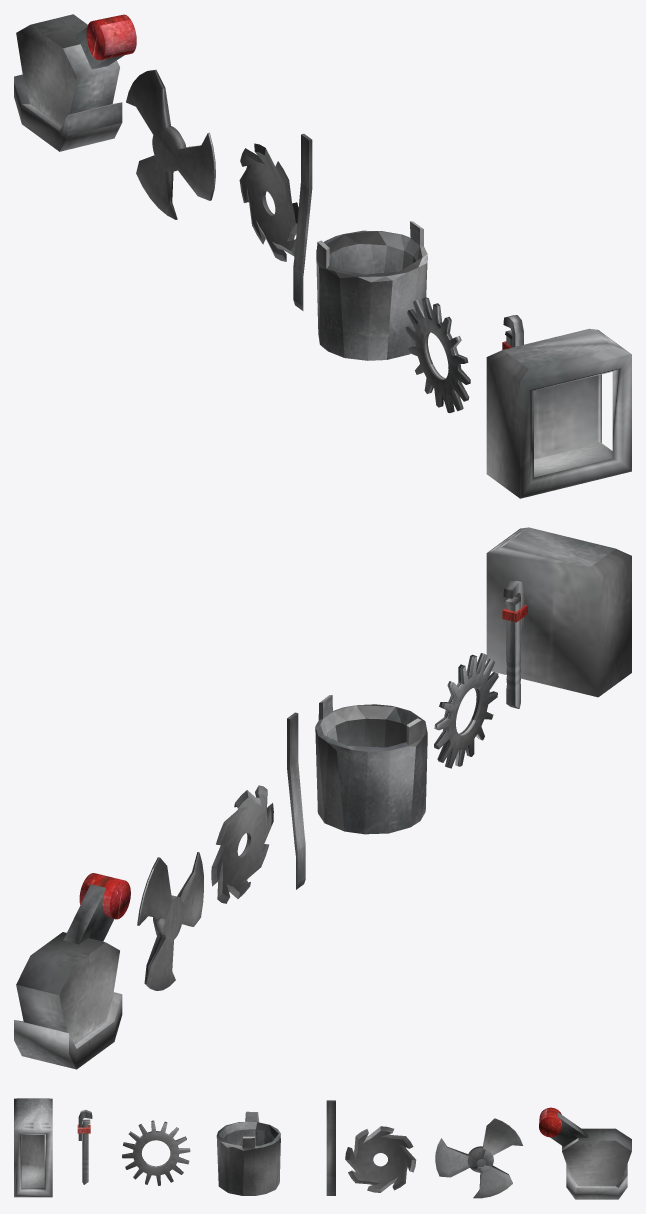
The model's file is A whopping 9 items.glb.
The picture shows the model from 3 angles, top to bottom: view 1: azimuth 30°, elevation 25°; view 2: azimuth 150°, elevation 25°; view 3: azimuth 270°, elevation 25°; orthographic projection. The views are drawn at different scales.
Visible parts, largest first — view 1: computer frame, engine, bucket, fan, Cylinder, Cog, Junction lever; view 2: computer frame, engine, bucket, fan, Cylinder, Cog, wrench, Junction lever; view 3: engine, bucket, computer frame, Cylinder, fan, Cog, Junction lever, wrench.
Part boxes in pixels (left/top/right/bottom): computer frame: left=486, top=328, right=631, bottom=498; engine: left=14, top=14, right=136, bottom=151; bucket: left=316, top=221, right=427, bottom=360; fan: left=126, top=69, right=215, bottom=219; Cylinder: left=239, top=143, right=298, bottom=261; Cog: left=405, top=297, right=470, bottom=412; Junction lever: left=293, top=133, right=312, bottom=310; computer frame: left=486, top=527, right=631, bottom=697; engine: left=14, top=873, right=130, bottom=1069; bucket: left=315, top=695, right=427, bottom=834; fan: left=137, top=852, right=203, bottom=990; Cylinder: left=211, top=785, right=273, bottom=903; Cog: left=434, top=653, right=498, bottom=768; wrench: left=502, top=580, right=527, bottom=708; Junction lever: left=287, top=712, right=305, bottom=889; engine: left=539, top=1107, right=631, bottom=1199; bucket: left=216, top=1111, right=280, bottom=1195; computer frame: left=14, top=1098, right=52, bottom=1197; Cylinder: left=345, top=1126, right=416, bottom=1192; fan: left=435, top=1118, right=522, bottom=1198; Cog: left=122, top=1120, right=190, bottom=1185; Junction lever: left=326, top=1100, right=335, bottom=1195; wrench: left=77, top=1110, right=92, bottom=1184.
Bounding box in the file's own units: 1.27 × 1.88 × 10.63.
2 materials, 2 textured.
